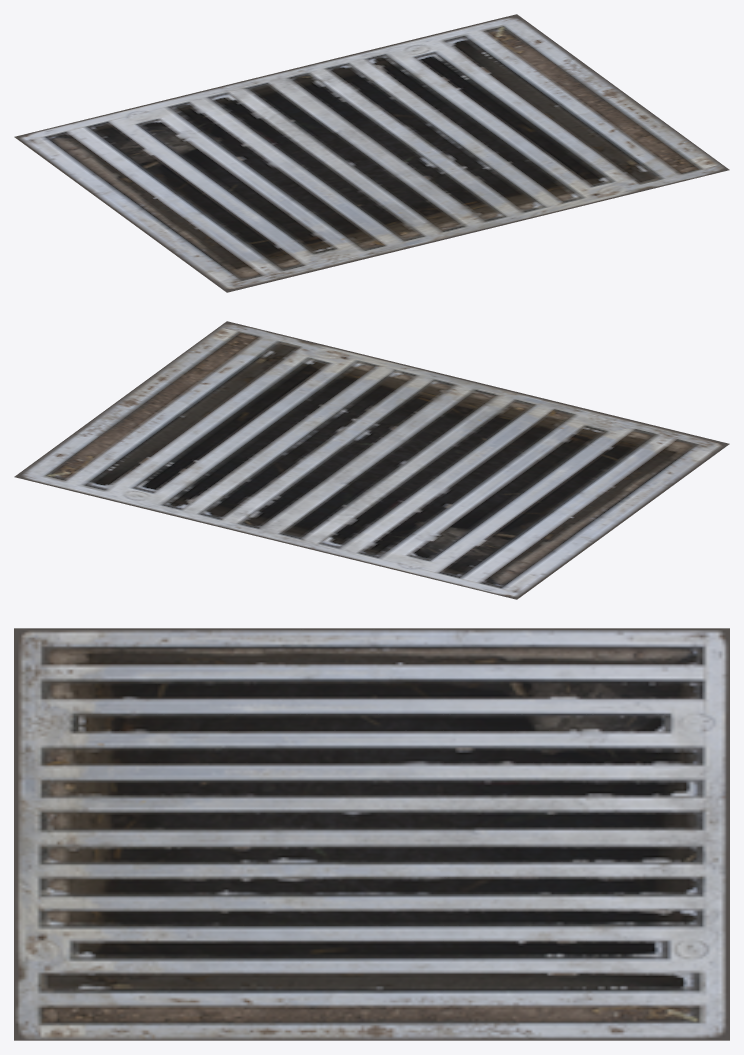
The model's file is Preset_DrainA.fbx.
3 views of the same model, one above another, from view 1: azimuth 30°, elevation 25°; view 2: azimuth 150°, elevation 25°; view 3: azimuth 270°, elevation 25° (orthographic). The views are drawn at different scales.
Visible parts, largest first — view 1: DrainA; view 2: DrainA; view 3: DrainA.
Boxes of the visible parts, box(x1,y1,x2,y2) form: DrainA: box(14, 14, 729, 292); DrainA: box(14, 321, 729, 599); DrainA: box(14, 628, 729, 1040).
Bounding box in the file's own units: 70.7 × 51.84 × 0.
Materials: 1 (1 with a texture image).
